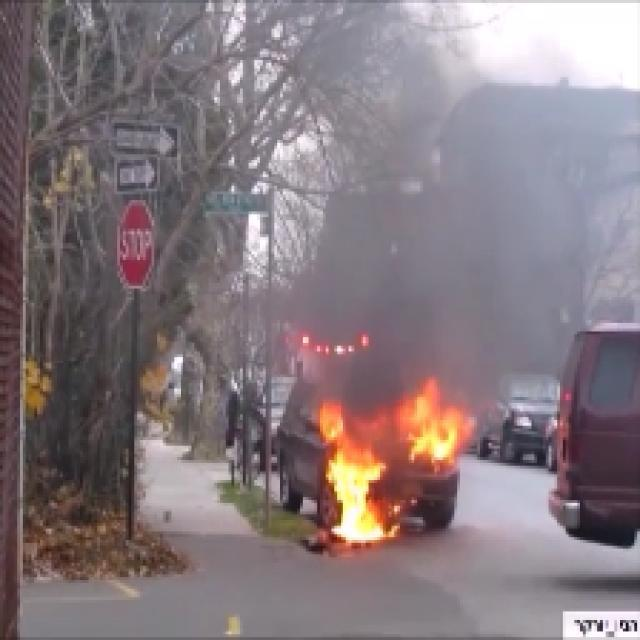Fire: (326, 438, 388, 538), (398, 384, 463, 462)
Smoke: (356, 198, 552, 330)
